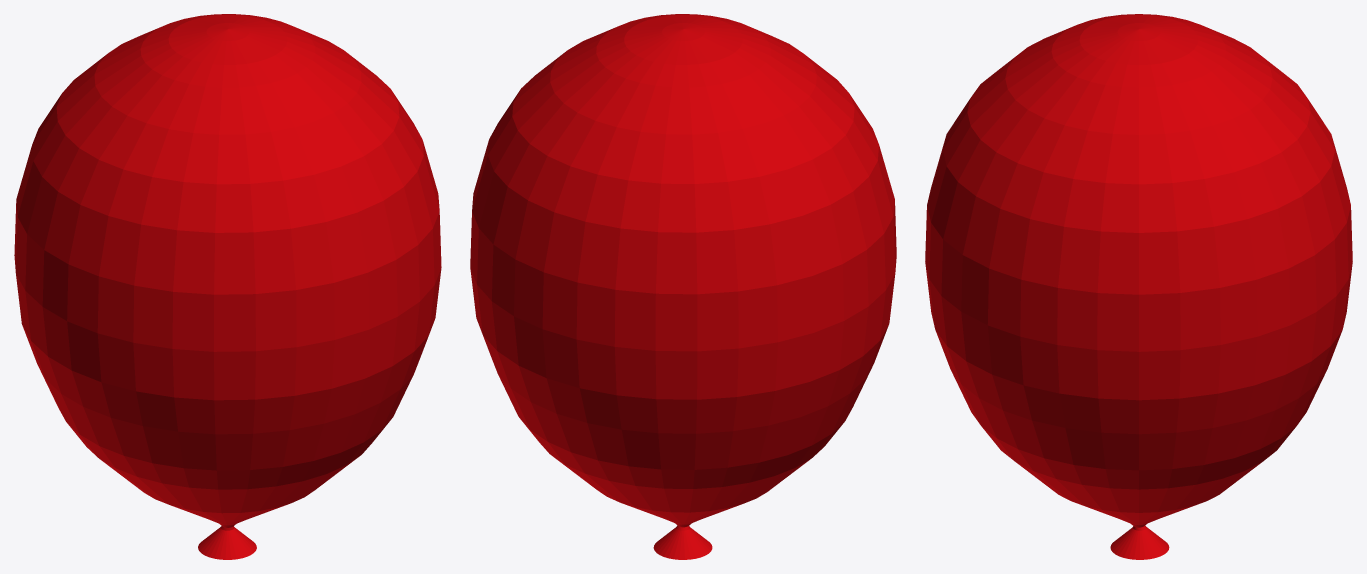
Rendered from globoBueno.fbx.
3 views of the same model, side by side, from view 1: azimuth 30°, elevation 25°; view 2: azimuth 150°, elevation 25°; view 3: azimuth 270°, elevation 25° (orthographic).
Visible parts, largest first — view 1: Sphere; view 2: Sphere; view 3: Sphere.
Part boxes in pixels (x1,y1,x2,y2): Sphere: (14, 14, 441, 559); Sphere: (470, 14, 896, 559); Sphere: (925, 14, 1352, 559).
Size of the model in its own units: 175 by 234 by 175.
